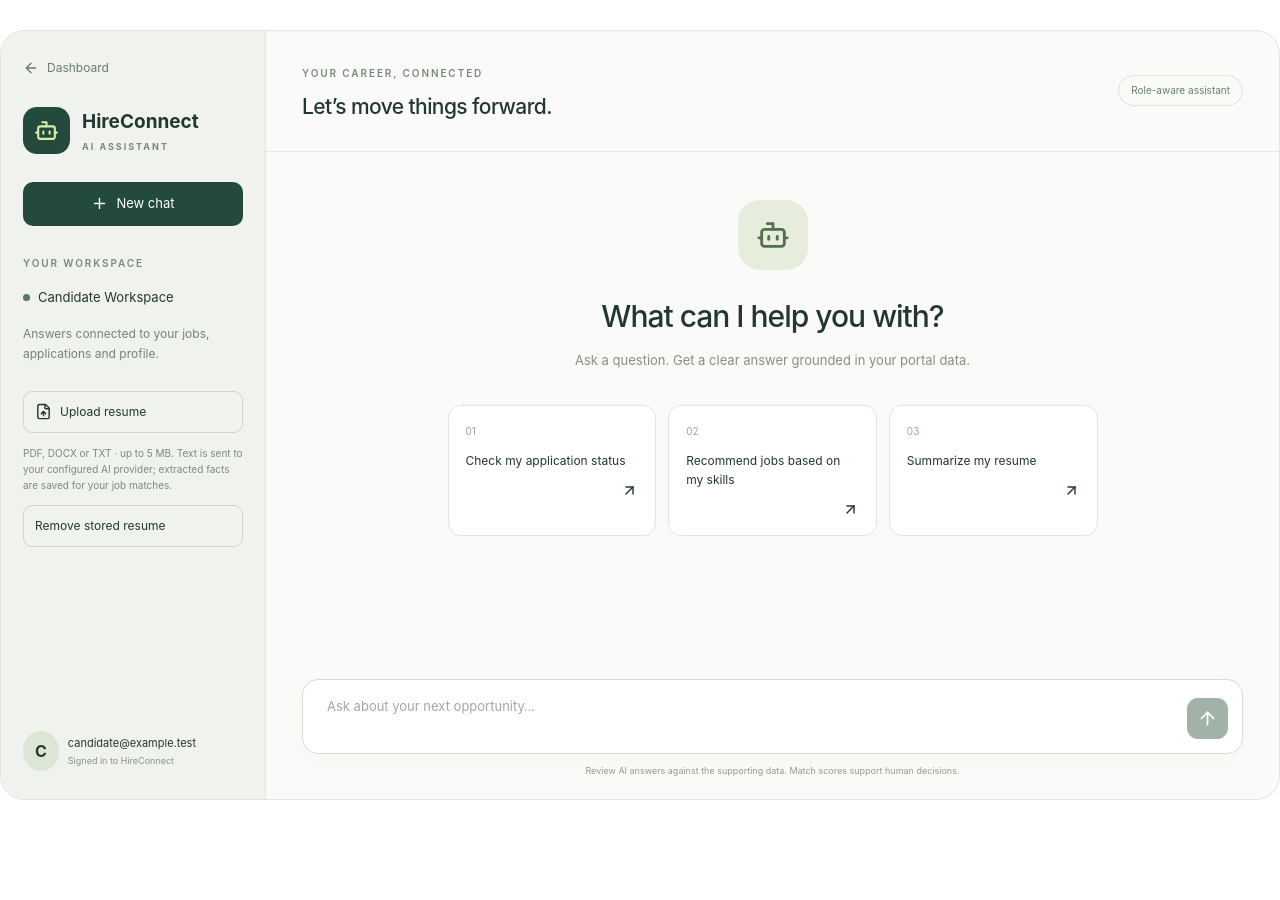
Scenario: AI Assistant integration › shows provider errors and restores the question for retry
Click the button "01 Check my application status" at (552, 471), box x1=448 y1=405 x2=656 y2=536
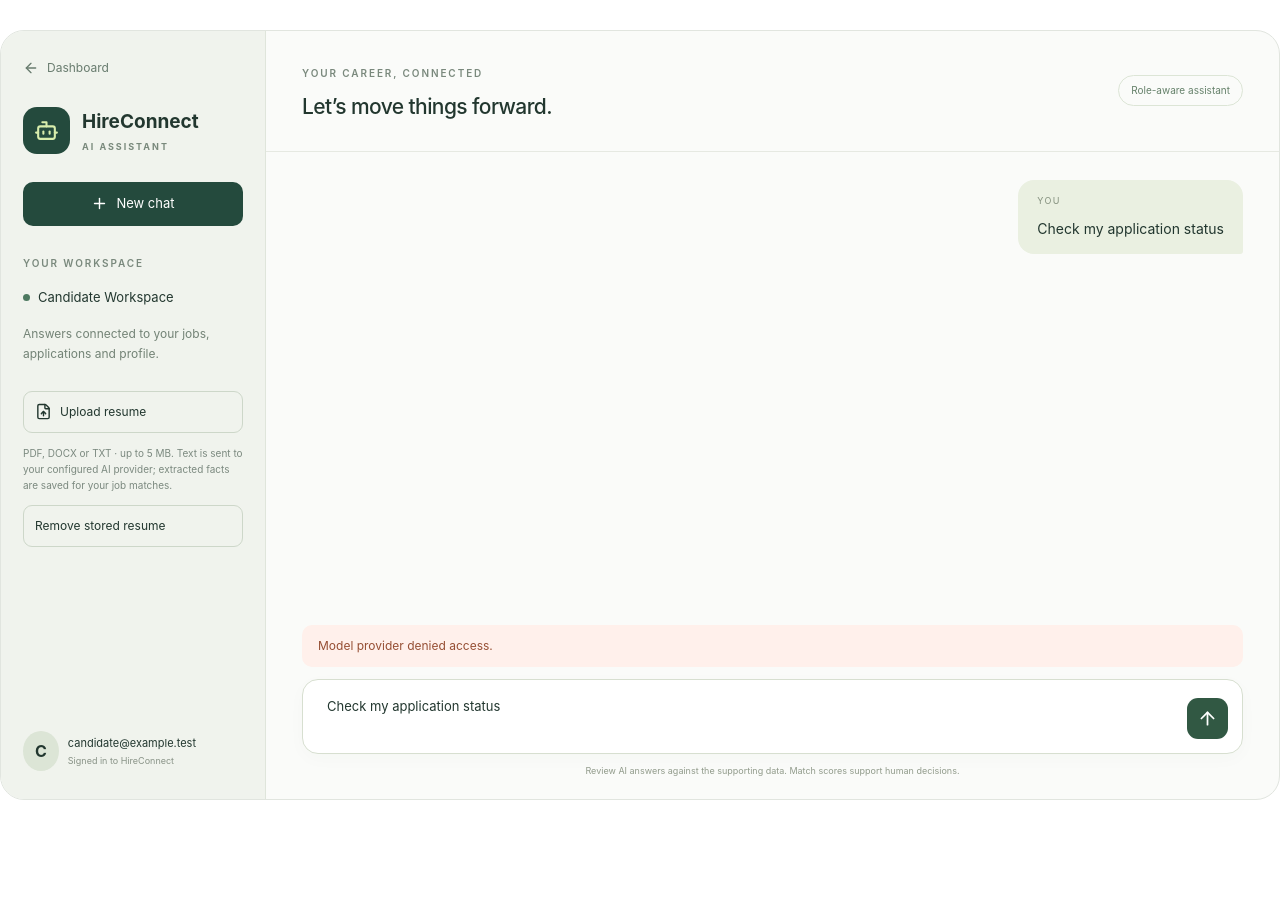
Check: the message reads "Model provider denied access.", box x1=318 y1=638 x2=493 y2=652
Check: the text box holds "Check my application status", box x1=317 y1=694 x2=1187 y2=738
